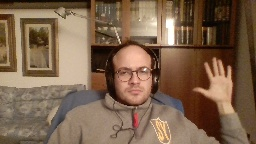Mano_aperta: (191, 54, 235, 104)
